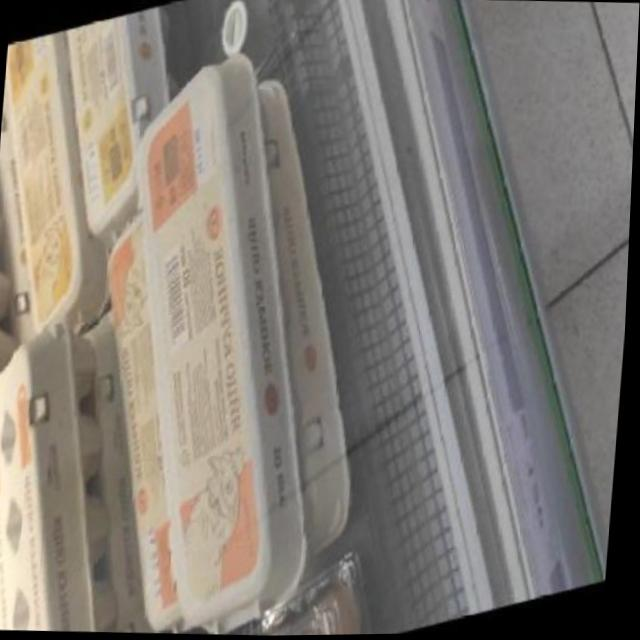Egg: (94, 23, 354, 639)
